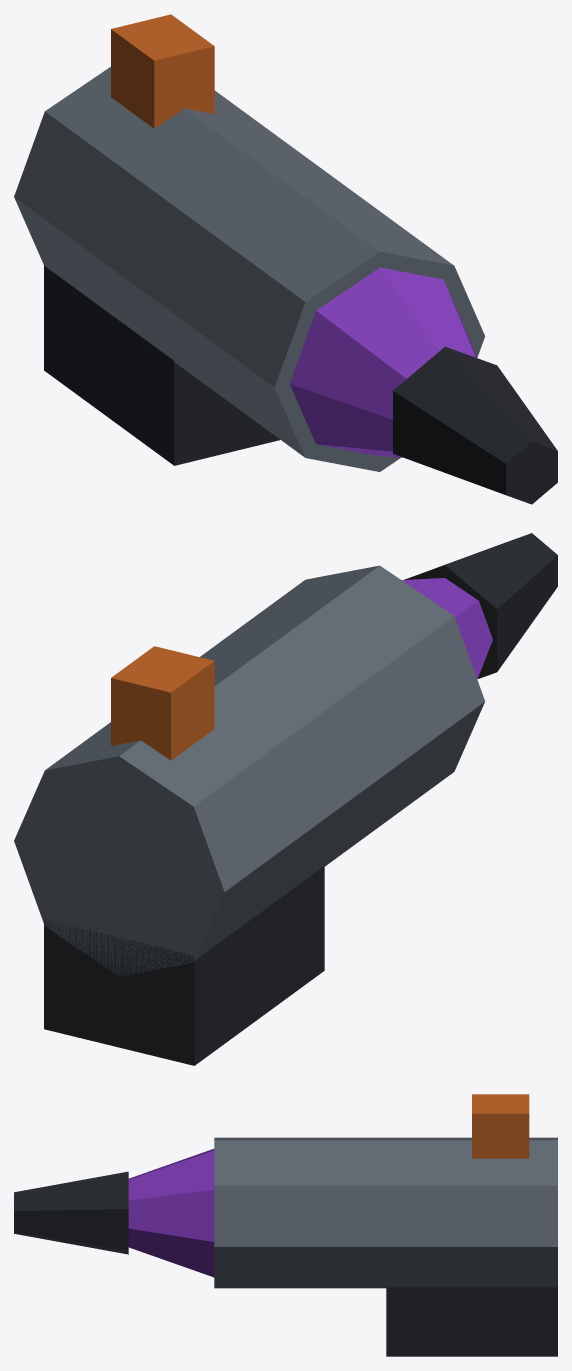
File: adrenal-sorcerers.glb
The picture shows the model from 3 angles, top to bottom: view 1: azimuth 30°, elevation 25°; view 2: azimuth 150°, elevation 25°; view 3: azimuth 270°, elevation 25°; orthographic projection. The views are drawn at different scales.
Visible parts, largest first — view 1: m; view 2: m; view 3: m.
Part boxes in pixels (bbox=[...]): m: bbox=[14, 14, 557, 504]; m: bbox=[14, 533, 557, 1065]; m: bbox=[14, 1094, 557, 1356].
Size of the model in its own units: 0.0265 by 0.0417 by 0.09.
